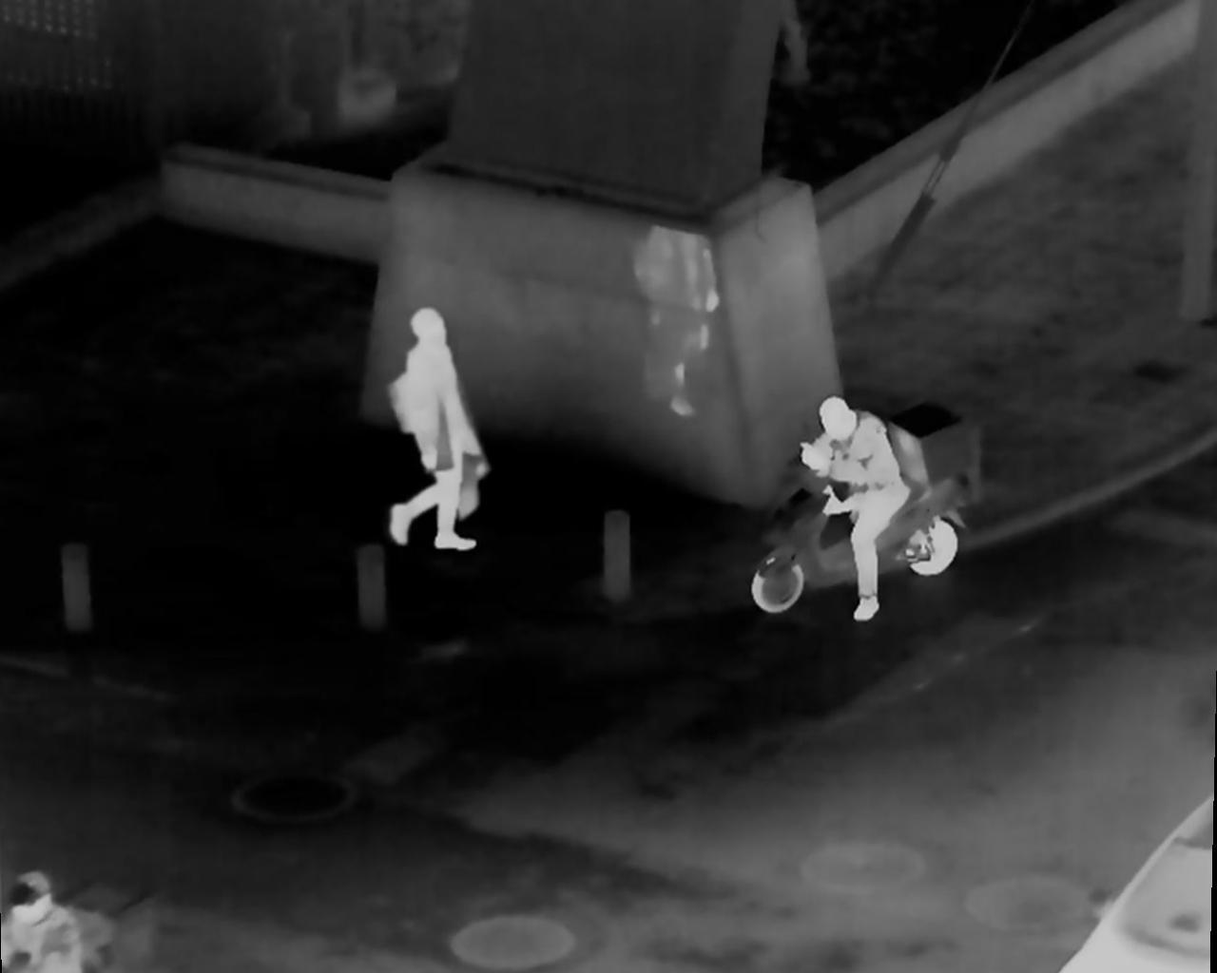person: (802, 398, 907, 634), (393, 312, 488, 556)
